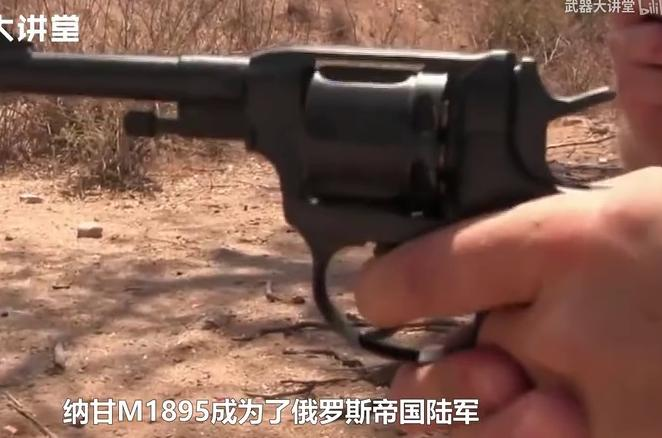gun: (1, 1, 662, 438)
